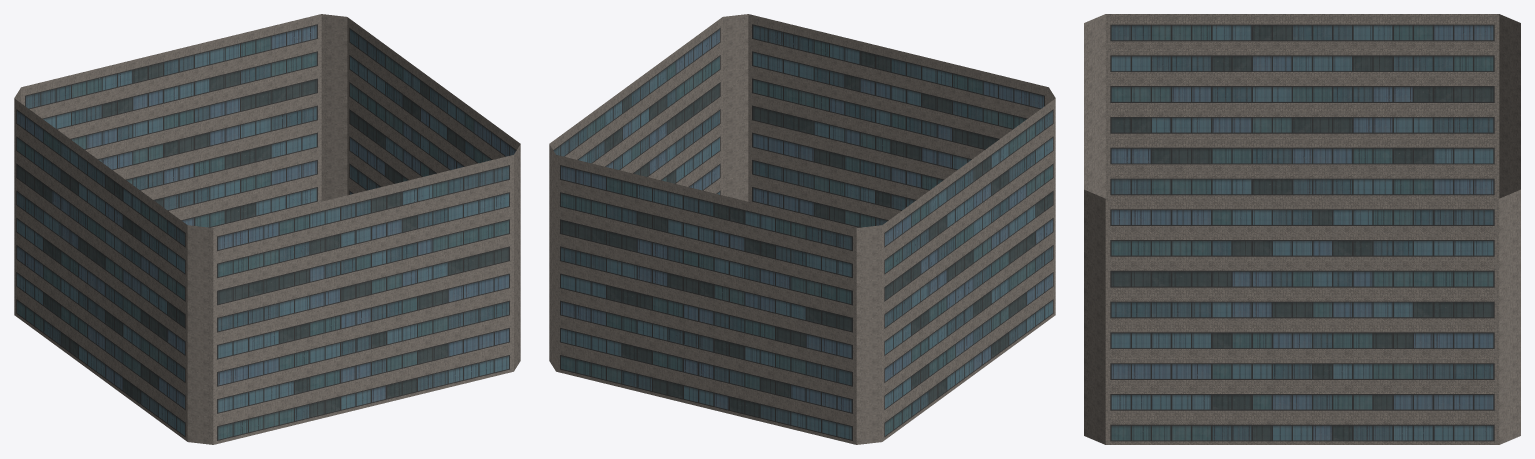
Rendered from jctBld50D_mdl_low.fbx.
3 views of the same model, side by side, from view 1: azimuth 30°, elevation 25°; view 2: azimuth 150°, elevation 25°; view 3: azimuth 270°, elevation 25° (orthographic). The views are drawn at different scales.
Parts seen in each view (by area): view 1: jctBld50D_mdl_low; view 2: jctBld50D_mdl_low; view 3: jctBld50D_mdl_low.
Part boxes in pixels (bbox=[...]): jctBld50D_mdl_low: bbox=[14, 14, 520, 444]; jctBld50D_mdl_low: bbox=[549, 14, 1055, 444]; jctBld50D_mdl_low: bbox=[1084, 14, 1520, 444].
Size of the model in its own units: 4500 by 2800 by 4500.
